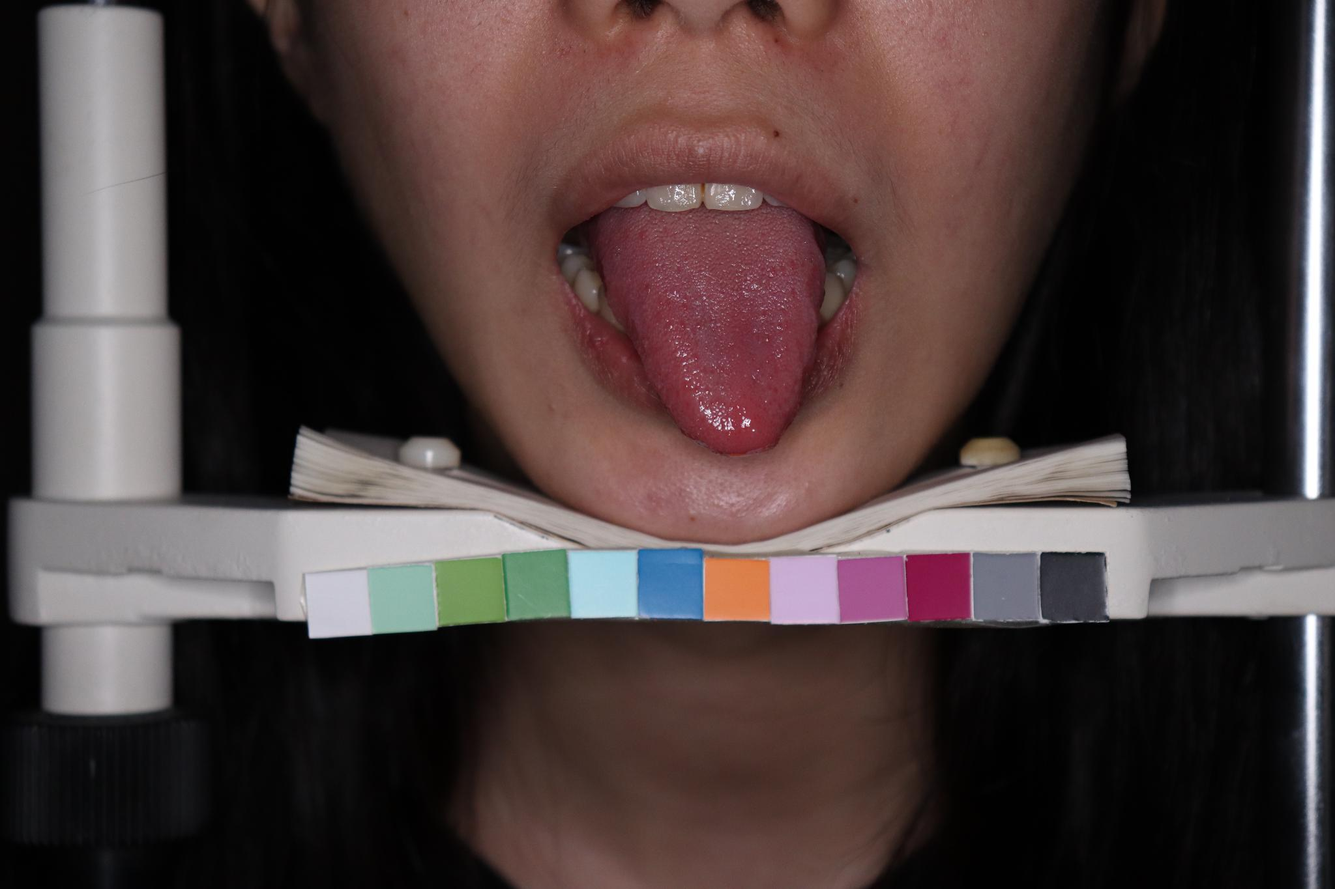baitaishe: (587, 185, 825, 457)
hongshe: (587, 185, 825, 457)
